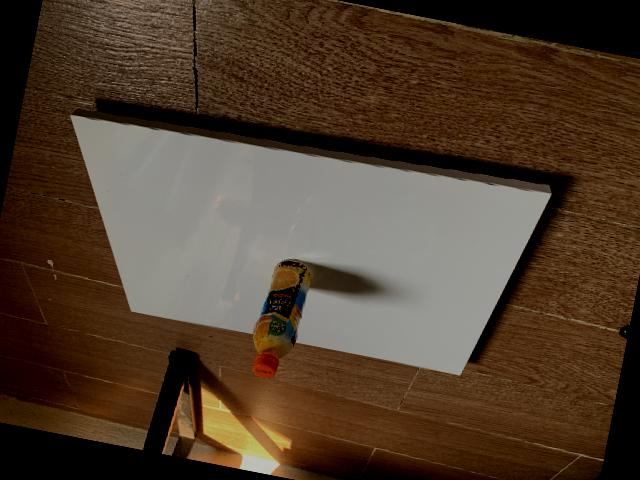teppy_orange_juice: (251, 257, 311, 377)
